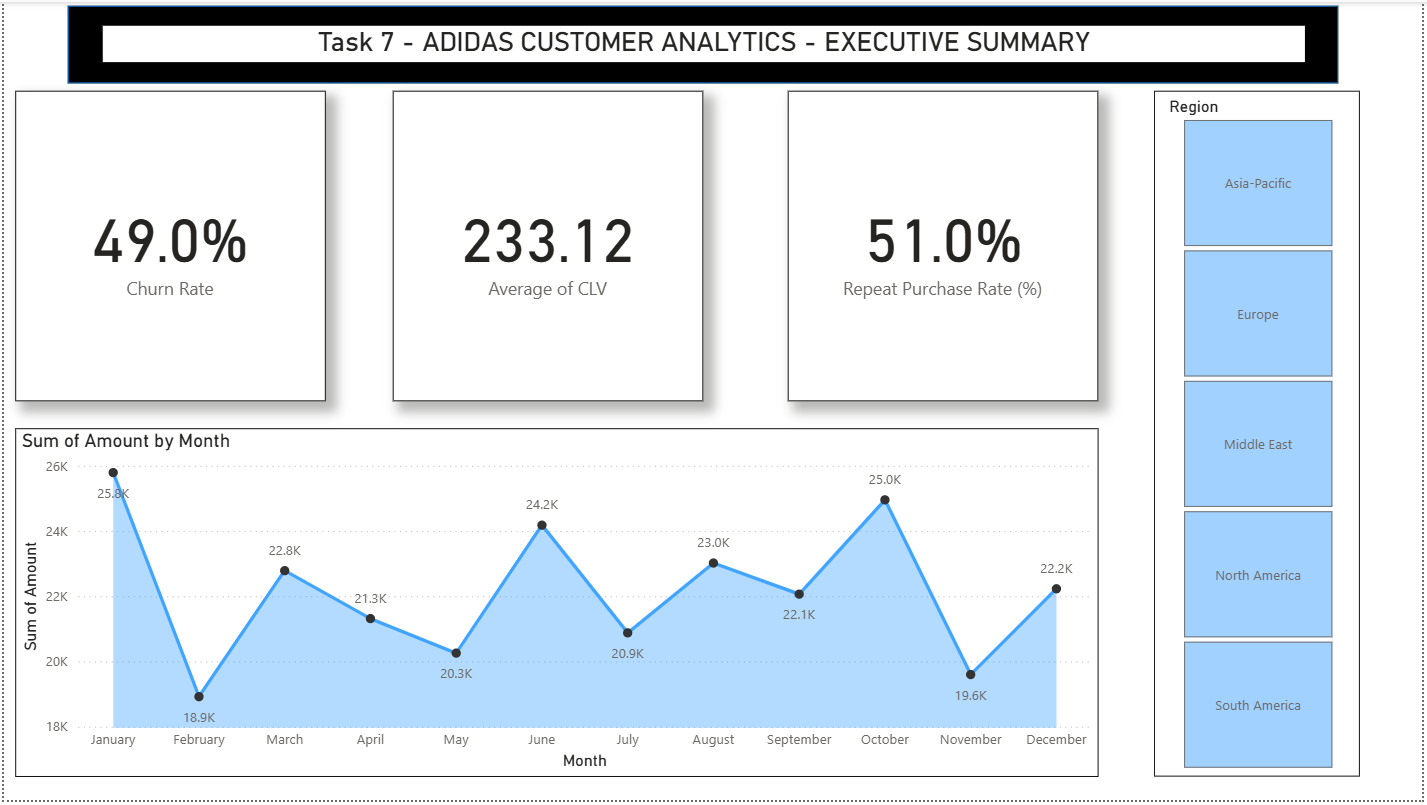

The dashboard page shown, as its layout file describes it:
{"tool":"powerbi","page":{"name":"Task 7 - Executive KPIs","canvas":[1280,720],"ordinal":5},"visuals":[{"type":"card","fields":{"Values":["customer churned - Churn_Labelled_Customers.Churn Rate"]},"box":[10,80,280,280],"z":0},{"type":"card","fields":{"Values":["Customer demographics adidas - Customer_Demographics.Repeat Purchase Rate (%)"]},"box":[707.1,80,280,280],"z":1000},{"type":"card","fields":{"Values":["Avg(Customer demographics adidas - Customer_Demographics.CLV)"]},"box":[350,80,280,280],"z":2000},{"type":"shape","box":[57.1,2.9,1145.7,70],"z":3000},{"type":"textbox","title":"Task 7 - ADIDAS CUSTOMER ANALYTICS - EXECUTIVE SUMMARY","box":[88.6,21.4,1084.3,32.9],"z":4000},{"type":"slicer","fields":{"Values":["Customer demographics adidas - Customer_Demographics.Region"]},"box":[1037.1,80,185.7,618.6],"z":5000},{"type":"areaChart","fields":{"Category":["Adidas customer transactional - Customer_Transactions.Transaction_Date.Variation.Date Hierarchy.Month"],"Y":["Sum(Adidas customer transactional - Customer_Transactions.Amount)"]},"box":[10,384.3,977.1,314.3],"z":6000}]}

Visuals, with their boxes in screenshot pixels (x1, y1, x2, y2), scaled from the page's 1280x720 canvas onto the 1427x805 screenshot:
card - customer churned - Churn_Labelled_Customers.Churn Rate: {"x1": 11, "y1": 89, "x2": 323, "y2": 402}
card - Customer demographics adidas - Customer_Demographics.Repeat Purchase Rate (%): {"x1": 788, "y1": 89, "x2": 1100, "y2": 402}
card - Avg(Customer demographics adidas - Customer_Demographics.CLV): {"x1": 390, "y1": 89, "x2": 702, "y2": 402}
shape: {"x1": 64, "y1": 3, "x2": 1341, "y2": 82}
"Task 7 - ADIDAS CUSTOMER ANALYTICS - EXECUTIVE SUMMARY" textbox: {"x1": 99, "y1": 24, "x2": 1308, "y2": 61}
slicer - Customer demographics adidas - Customer_Demographics.Region: {"x1": 1156, "y1": 89, "x2": 1363, "y2": 781}
areaChart - Adidas customer transactional - Customer_Transactions.Transaction_Date.Variation.Date Hierarchy.Month x Sum(Adidas customer transactional - Customer_Transactions.Amount): {"x1": 11, "y1": 430, "x2": 1100, "y2": 781}
